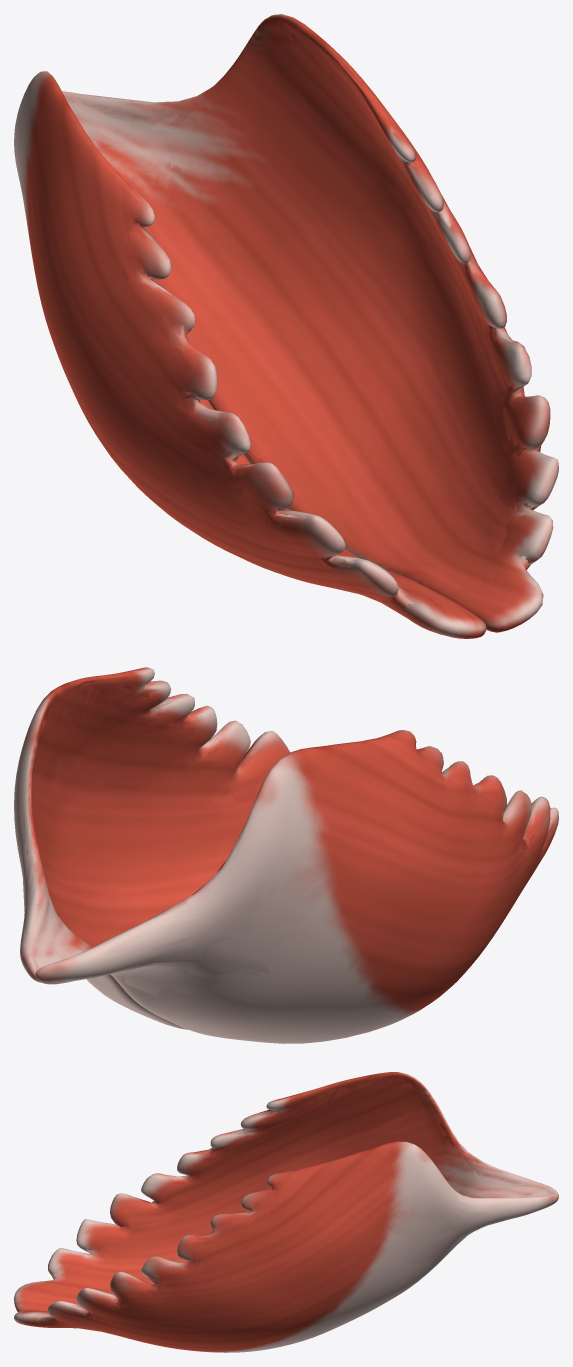
The model's file is obliquus externus abdominis.fbx.
3 renders of one model, top to bottom at view 1: azimuth 30°, elevation 25°; view 2: azimuth 150°, elevation 25°; view 3: azimuth 270°, elevation 25°, orthographic. The views are drawn at different scales.
Parts seen in each view (by area): view 1: obliquus externus abdominis low, obliquus externus abdominis high, obliquus externus abdominis; view 2: obliquus externus abdominis high, obliquus externus abdominis low, obliquus externus abdominis; view 3: obliquus externus abdominis high, obliquus externus abdominis low, obliquus externus abdominis.
Part boxes in pixels (x1,y1,x2,y2): obliquus externus abdominis low: (65, 25, 547, 617); obliquus externus abdominis high: (14, 14, 558, 638); obliquus externus abdominis: (20, 21, 558, 616); obliquus externus abdominis high: (14, 667, 558, 1043); obliquus externus abdominis low: (20, 669, 554, 996); obliquus externus abdominis: (20, 670, 554, 1018); obliquus externus abdominis high: (14, 1072, 558, 1352); obliquus externus abdominis low: (38, 1076, 548, 1335); obliquus externus abdominis: (23, 1075, 551, 1331).
Bounding box in the file's own units: 24.51 × 24.47 × 52.8.
